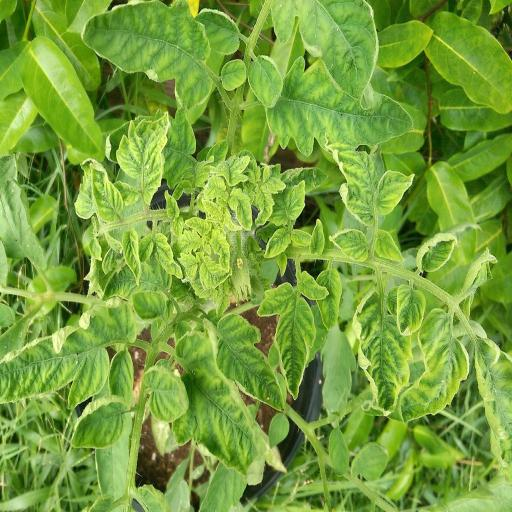disease_tomato: (82, 1, 214, 123), (0, 292, 134, 412), (171, 318, 265, 486), (264, 56, 414, 158), (270, 0, 380, 98), (256, 270, 328, 404), (395, 304, 471, 426), (326, 141, 418, 229), (352, 282, 408, 426), (210, 308, 286, 412), (113, 113, 172, 205), (140, 360, 192, 424), (194, 8, 244, 56), (90, 162, 124, 226), (248, 53, 284, 112), (415, 230, 460, 276), (396, 280, 426, 337), (315, 266, 341, 328), (329, 225, 371, 263), (154, 234, 184, 278), (229, 186, 255, 236), (196, 256, 232, 292), (120, 226, 142, 284), (373, 226, 407, 262), (261, 227, 294, 259), (222, 58, 248, 94), (308, 216, 326, 262)
